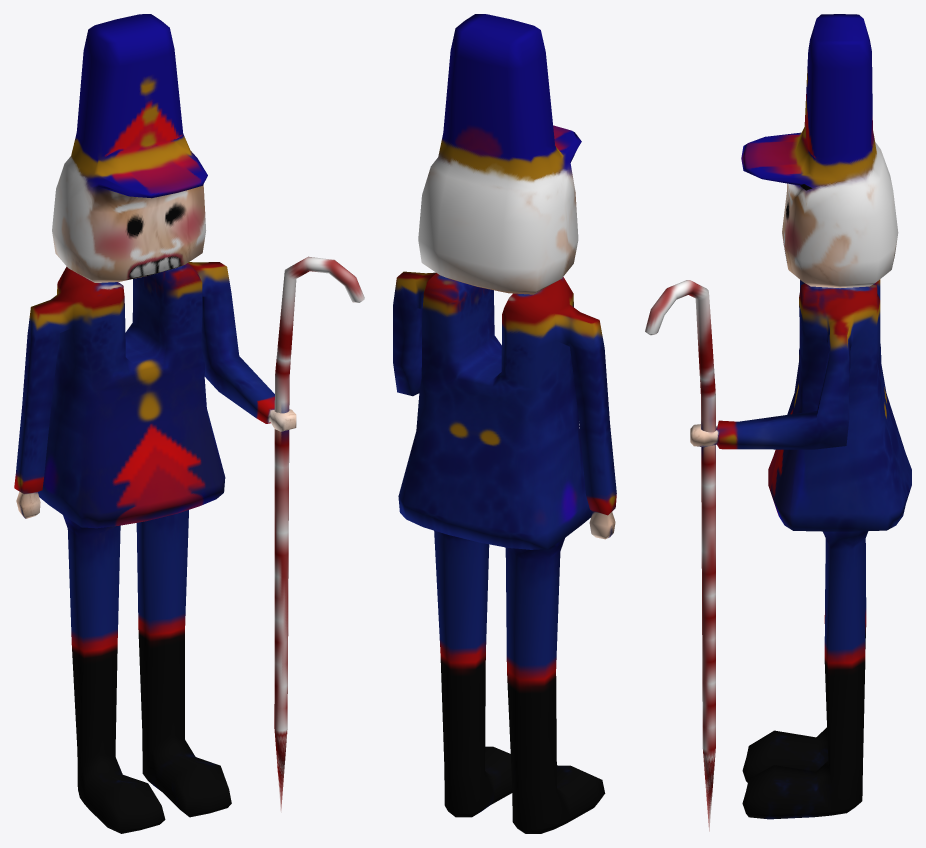
File: nutcrackerExp.fbx
3 views of the same model, side by side, from view 1: azimuth 30°, elevation 25°; view 2: azimuth 150°, elevation 25°; view 3: azimuth 270°, elevation 25° (orthographic). The views are drawn at different scales.
Parts seen in each view (by area): view 1: nutcrackerExp; view 2: nutcrackerExp; view 3: nutcrackerExp.
Part boxes in pixels (x1,y1,x2,y2): nutcrackerExp: (14,14,364,833); nutcrackerExp: (393,14,616,833); nutcrackerExp: (645,14,911,831).
Bounding box in the file's own units: 81.61 × 236 × 74.9.
Materials: 1 (1 with a texture image).
